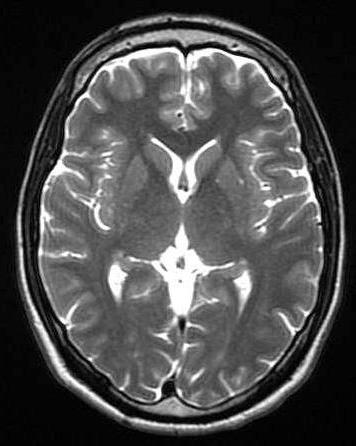Normal_Brain: (1, 1, 356, 446)
